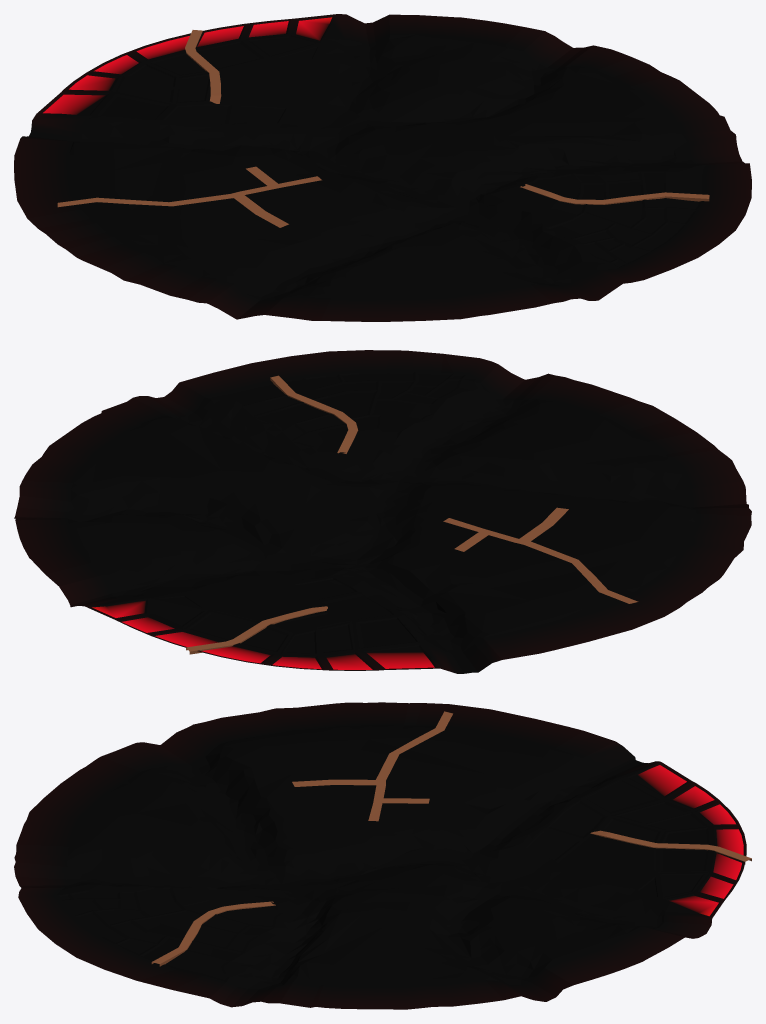
Rendered from SM_TerrainAgriculture_01.fbx.
3 renders of one model, top to bottom at view 1: azimuth 30°, elevation 25°; view 2: azimuth 150°, elevation 25°; view 3: azimuth 270°, elevation 25°, orthographic.
Visible parts, largest first — view 1: SM_TerrainAgriculture_01; view 2: SM_TerrainAgriculture_01; view 3: SM_TerrainAgriculture_01.
Boxes of the visible parts, box(x1,y1,x2,y2) form: SM_TerrainAgriculture_01: box(14, 14, 751, 321); SM_TerrainAgriculture_01: box(14, 350, 751, 673); SM_TerrainAgriculture_01: box(14, 702, 751, 1009).
Bounding box in the file's own units: 22.43 × 0.6508 × 22.77.
